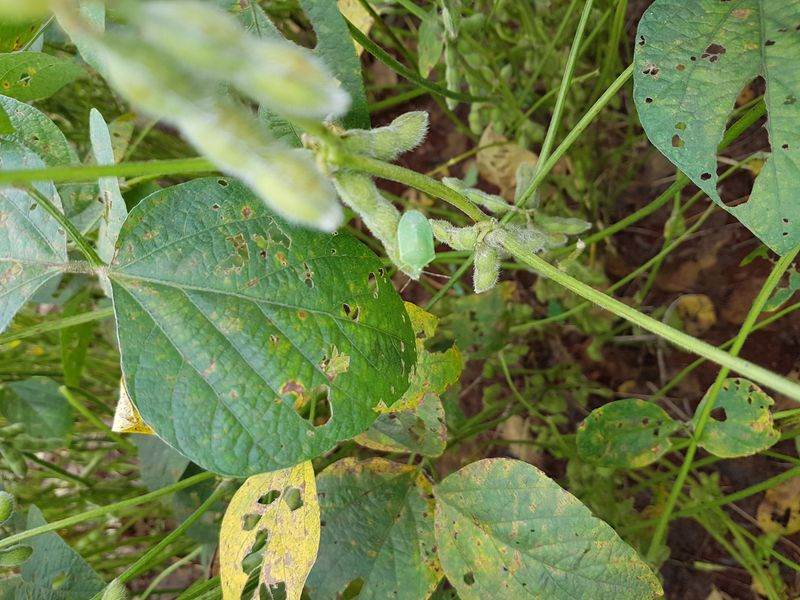Nezara_viridula_adulto: (378, 202, 448, 288)
